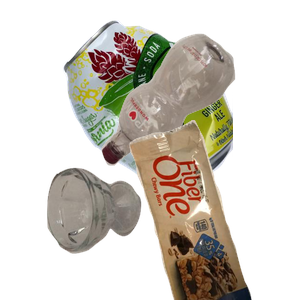glass: (44, 165, 178, 300)
metal: (60, 18, 300, 198)
plastic: (99, 31, 300, 189)
trash: (127, 120, 300, 300)
